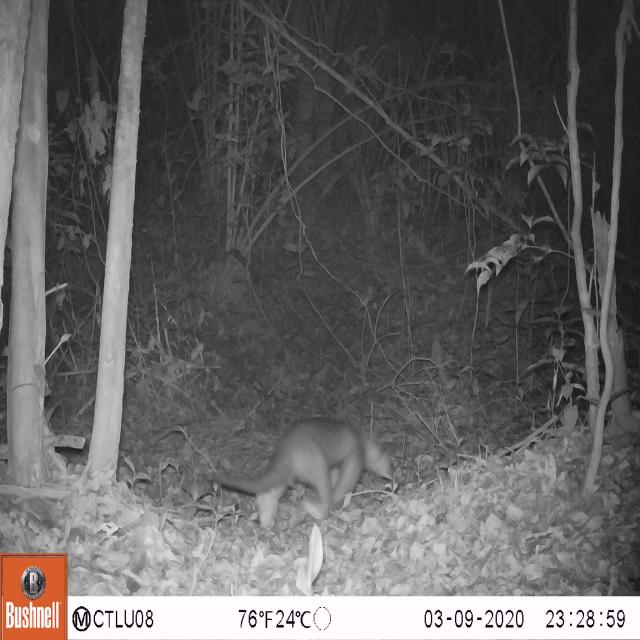Southern Tamandua: (199, 403, 407, 538)
